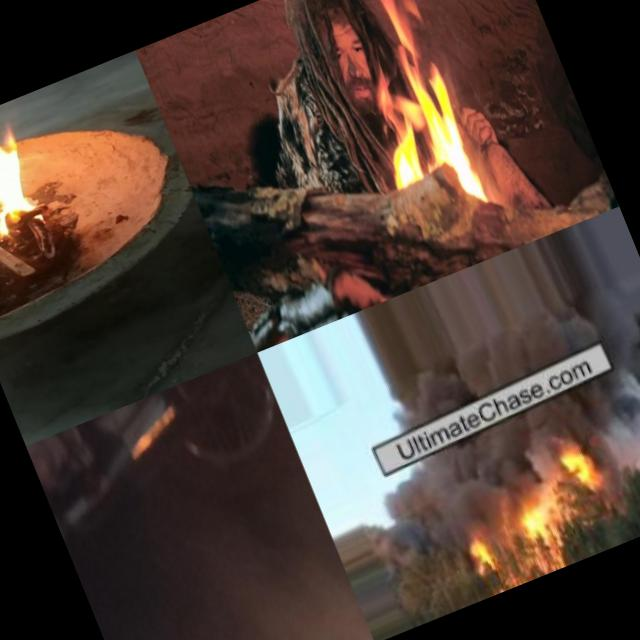fire: (331, 0, 491, 205), (443, 440, 632, 600), (0, 111, 78, 258)
smoke: (376, 367, 640, 528), (232, 509, 375, 640), (120, 456, 254, 580), (153, 547, 286, 640)
